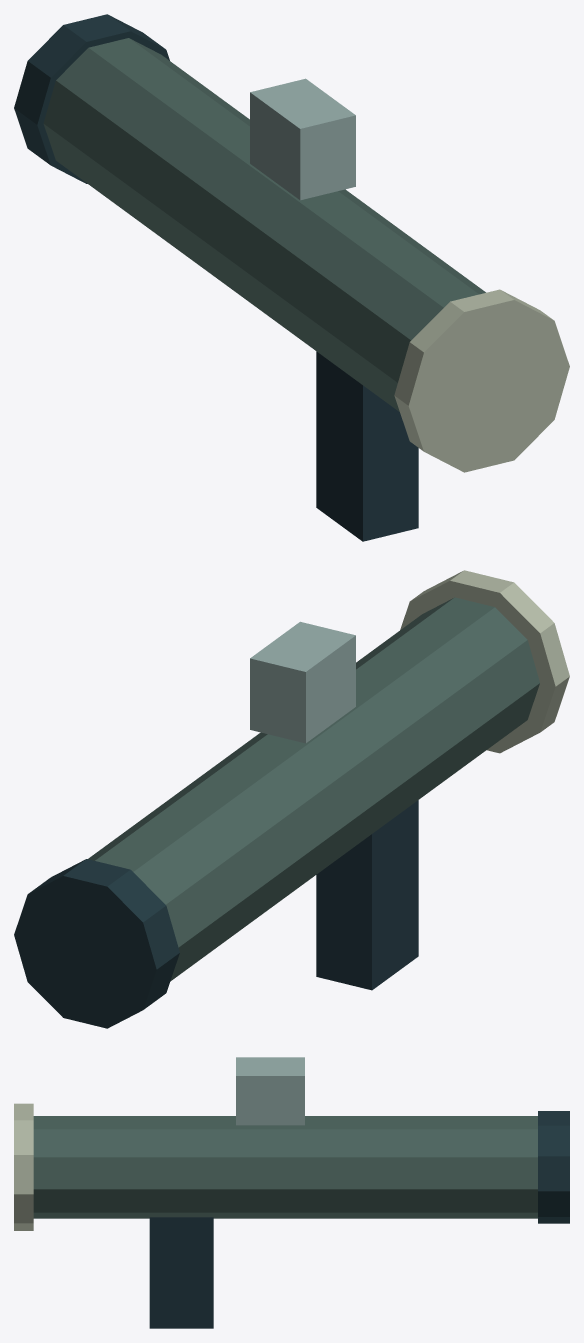
Rendered from rocket-launcher.glb.
The picture shows the model from 3 angles, top to bottom: view 1: azimuth 30°, elevation 25°; view 2: azimuth 150°, elevation 25°; view 3: azimuth 270°, elevation 25°; orthographic projection. The views are drawn at different scales.
Parts seen in each view (by area): view 1: rocket-launcher; view 2: rocket-launcher; view 3: rocket-launcher.
Part boxes in pixels (x1,y1,x2,y2): rocket-launcher: (14, 14, 569, 541); rocket-launcher: (14, 570, 569, 1028); rocket-launcher: (14, 1057, 569, 1328).
Size of the model in its own units: 0.26 by 0.565 by 1.13.
